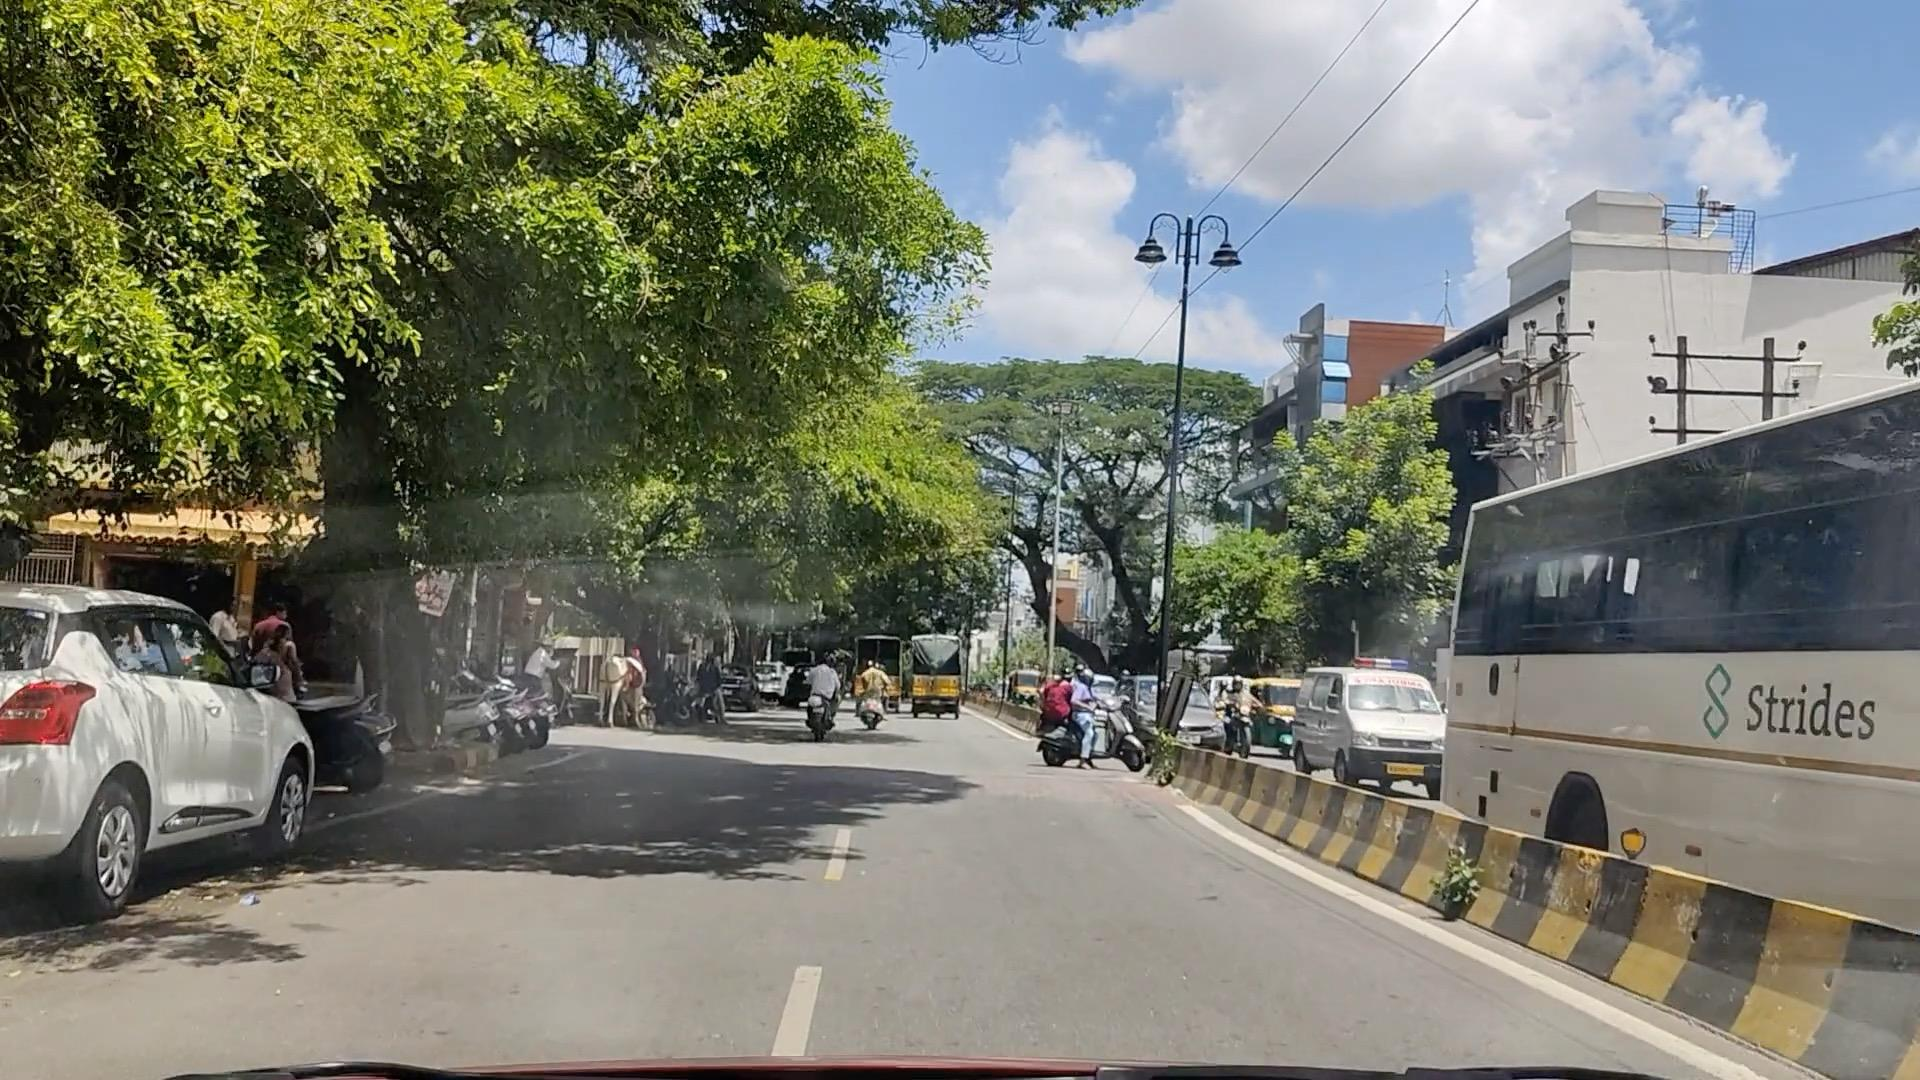LMV: (1027, 653, 1129, 782), (773, 646, 841, 731), (857, 633, 897, 733)
